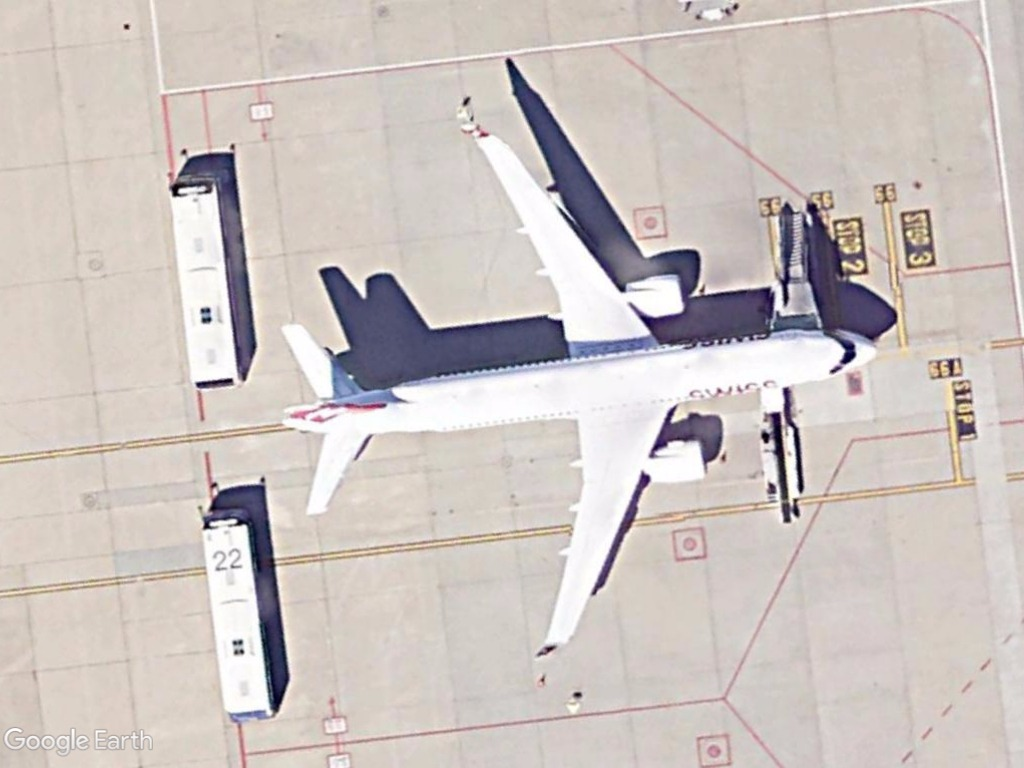airliner: (272, 121, 882, 660)
bus: (162, 171, 254, 392), (195, 504, 283, 723)
stairtruck: (756, 203, 826, 332)
